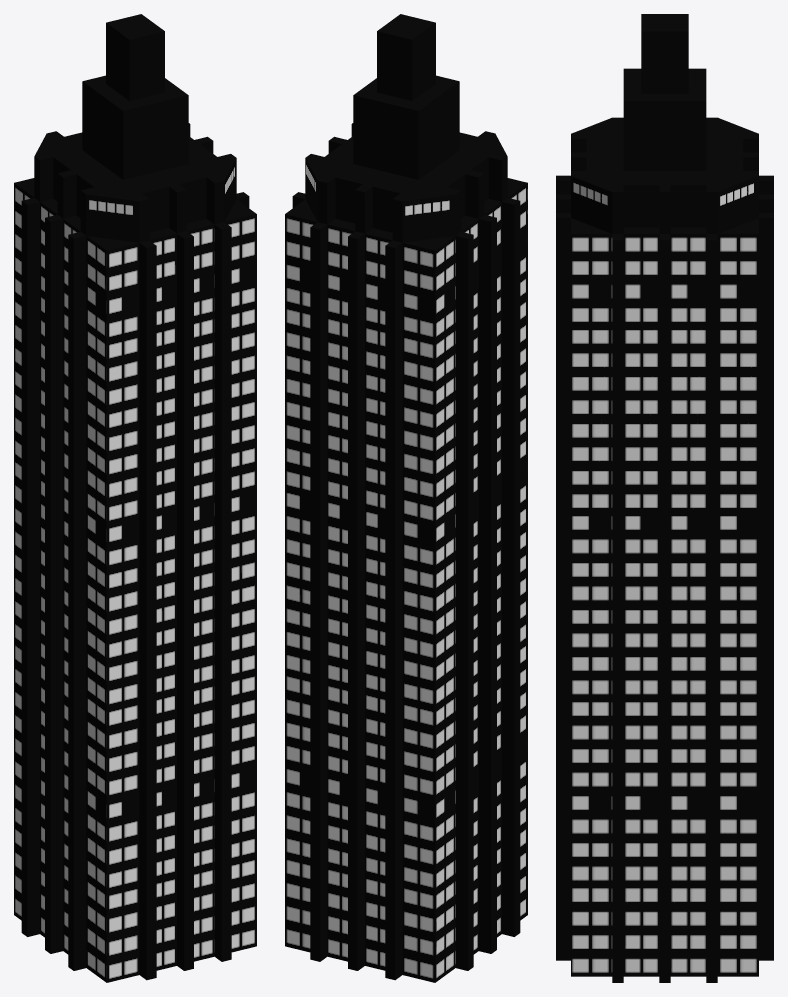
File: building_00.FBX
3 views of the same model, side by side, from view 1: azimuth 30°, elevation 25°; view 2: azimuth 150°, elevation 25°; view 3: azimuth 270°, elevation 25° (orthographic).
Visible parts, largest first — view 1: building_00; view 2: building_00; view 3: building_00.
Boxes of the visible parts, bbox=[...] form: building_00: bbox=[14, 14, 256, 982]; building_00: bbox=[285, 14, 527, 982]; building_00: bbox=[556, 14, 773, 982].
Bounding box in the file's own units: 140 × 688 × 148.
